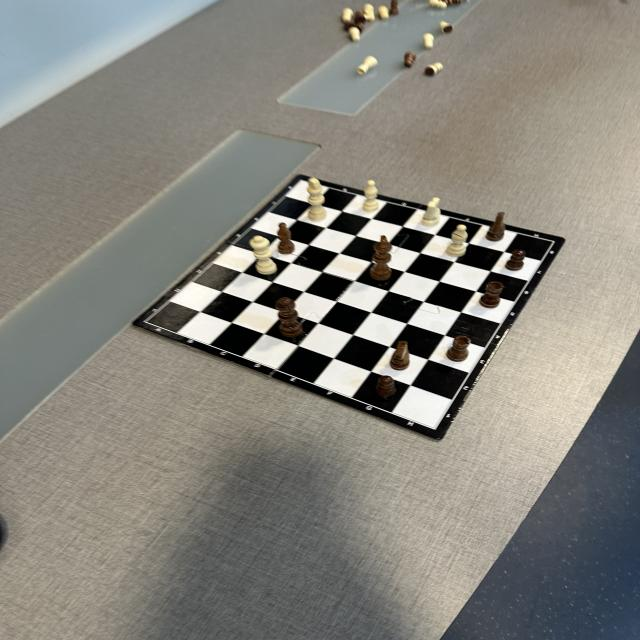Black-Bishop: (278, 222, 294, 254)
Black-King: (369, 235, 392, 281)
Black-Knight: (485, 212, 507, 242), (390, 340, 410, 370)
Black-Pawn: (375, 375, 396, 398), (505, 249, 525, 271)
Black-Queen: (275, 296, 303, 337)
Black-Rook: (479, 281, 504, 309), (446, 335, 471, 362)
White-Bishop: (445, 224, 469, 257), (363, 179, 381, 212)
White-King: (307, 178, 327, 221)
White-Knight: (421, 197, 442, 227)
White-Queen: (248, 235, 278, 275)
